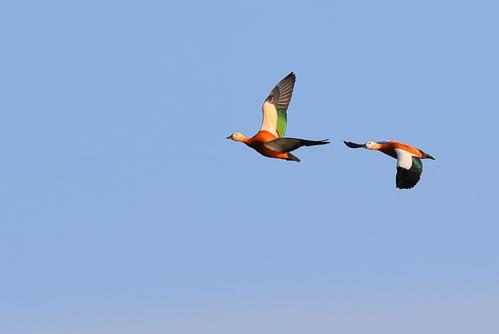bird: (226, 72, 330, 163), (341, 135, 436, 194)
